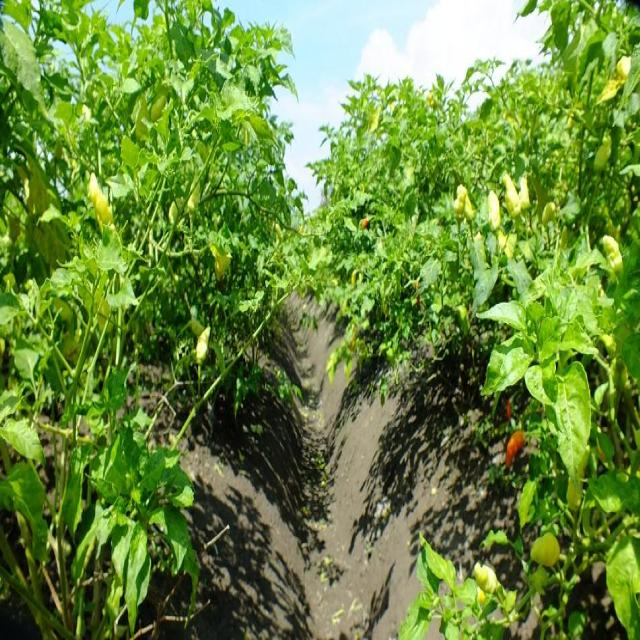row: (222, 266, 527, 639)
